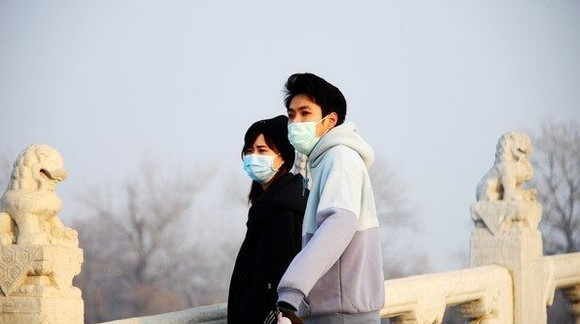face_with_mask: (285, 83, 344, 156), (241, 117, 294, 186)
